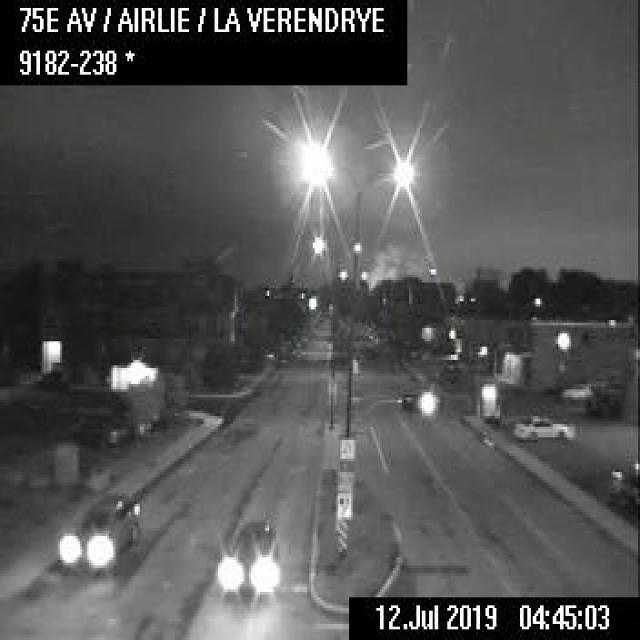vehicle: (53, 488, 141, 573), (215, 515, 278, 600), (512, 412, 575, 442), (554, 379, 596, 400)
